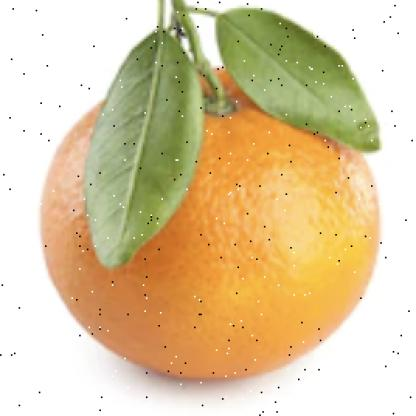fresh: (42, 54, 379, 380)
